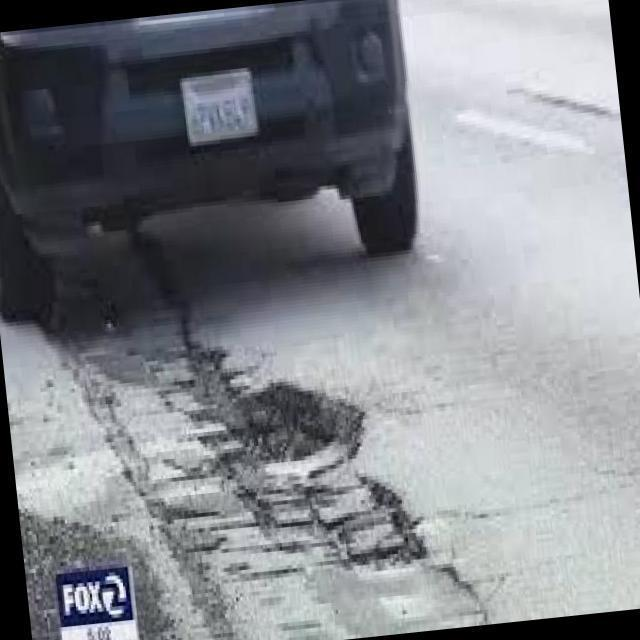-: (66, 323, 420, 565)
